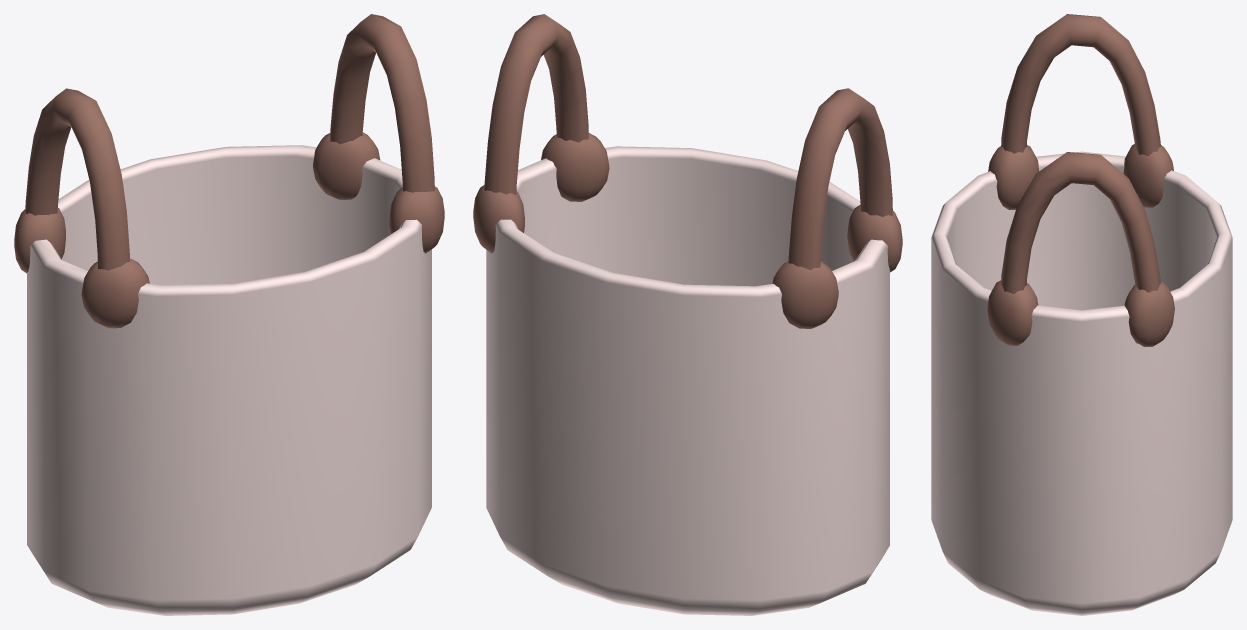
Rendered from Store_3_Basket_1.glb.
3 views of the same model, side by side, from view 1: azimuth 30°, elevation 25°; view 2: azimuth 150°, elevation 25°; view 3: azimuth 270°, elevation 25° (orthographic). The views are drawn at different scales.
Visible parts, largest first — view 1: Store_3_Basket_1; view 2: Store_3_Basket_1; view 3: Store_3_Basket_1.
Part boxes in pixels (box(x1,y1,x2,y2)): Store_3_Basket_1: box(14, 14, 444, 615); Store_3_Basket_1: box(473, 14, 902, 615); Store_3_Basket_1: box(931, 14, 1232, 615).
Size of the model in its own units: 0.4952 by 0.6328 by 0.3762.
1 material, 1 textured.
